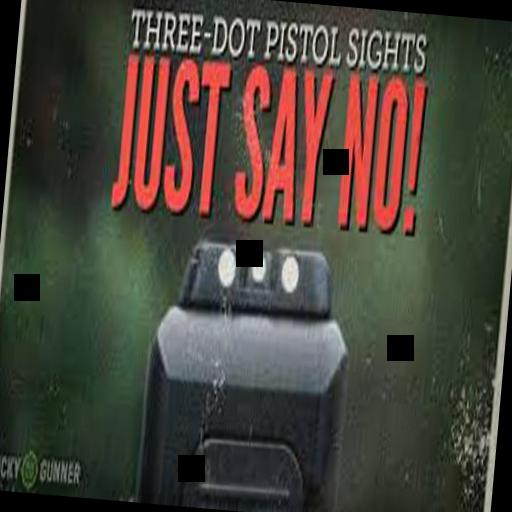Handgun: (130, 226, 356, 512)
